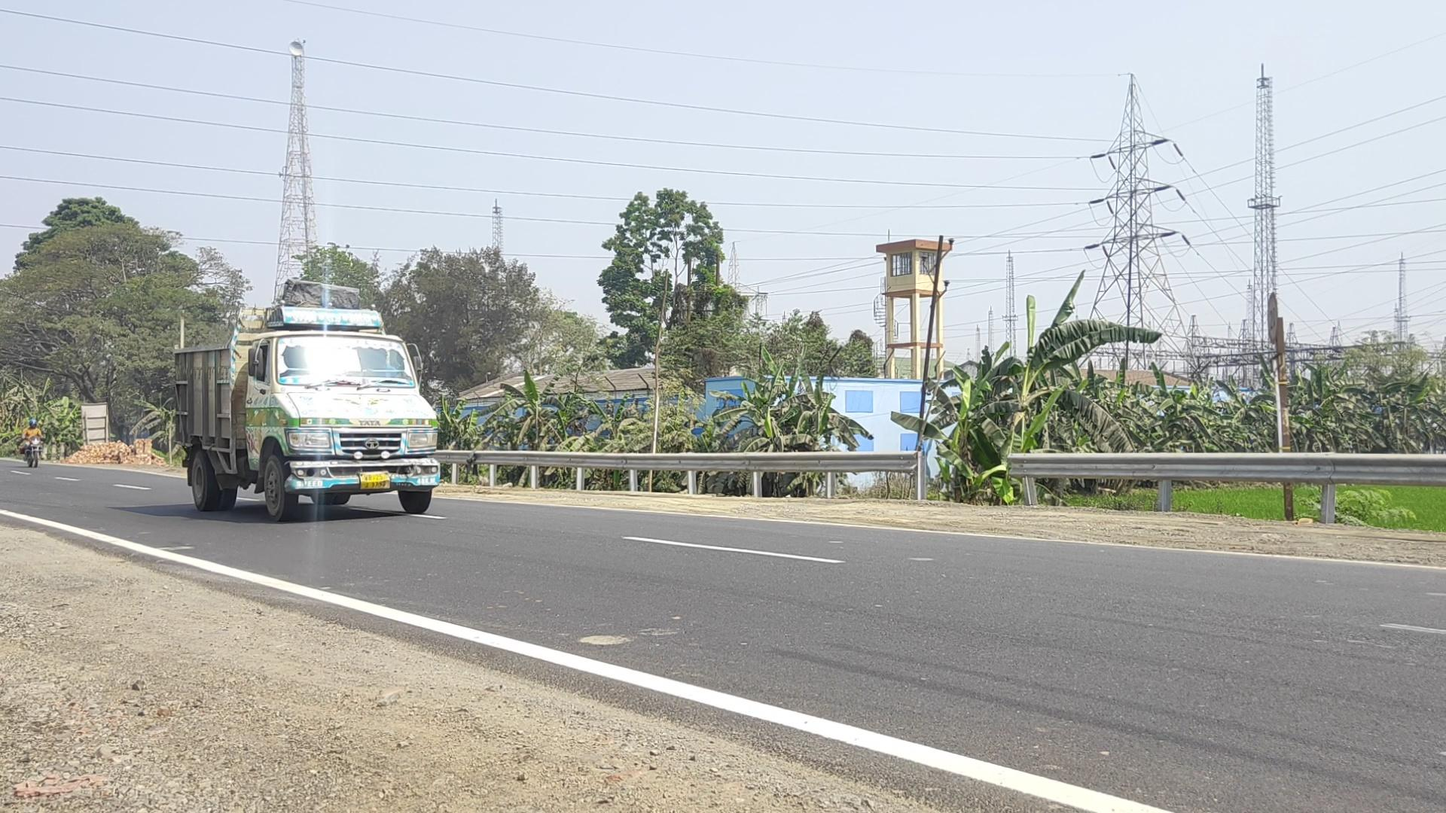bike: (19, 419, 45, 468)
truck: (173, 299, 441, 521)
